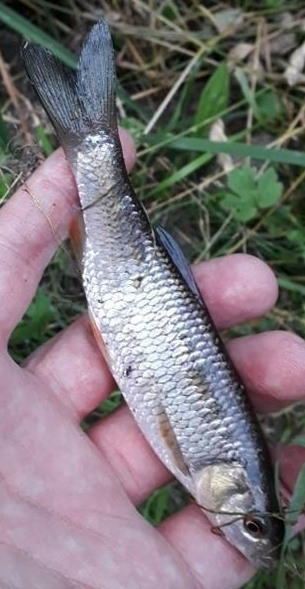Leuciscus cephalus: (20, 20, 285, 569)
